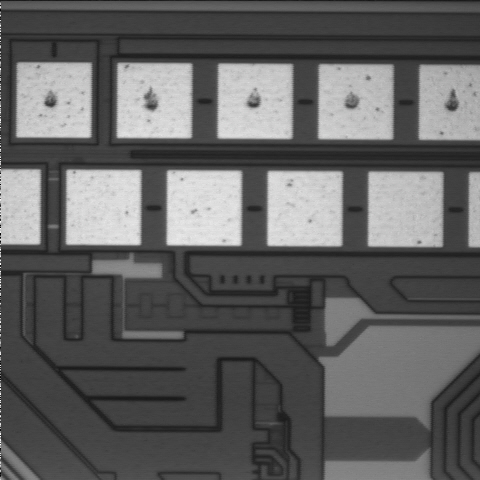pad: (66, 170, 141, 245), (17, 63, 91, 138), (218, 64, 292, 139), (167, 171, 241, 246), (268, 171, 342, 246), (117, 64, 191, 138), (368, 172, 442, 246), (319, 65, 392, 139)
